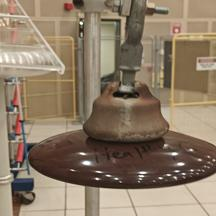insulator: (19, 75, 216, 197)
